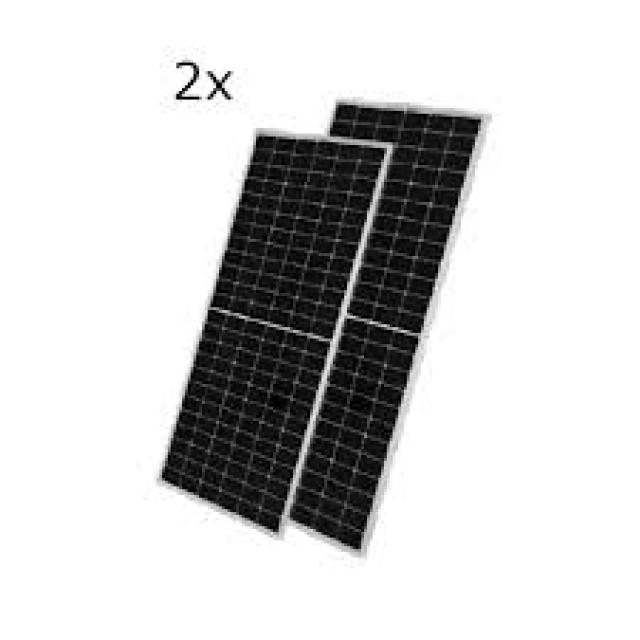Solar: (217, 106, 486, 549), (158, 137, 392, 541)
